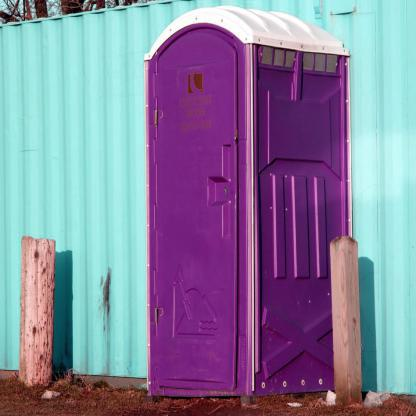door: (158, 60, 235, 388)
